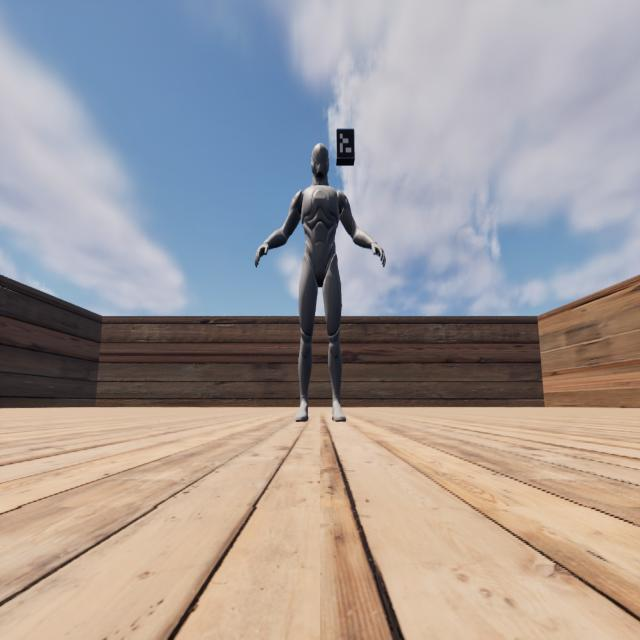aruco: (336, 128, 354, 159)
hip: (302, 254, 338, 268)
